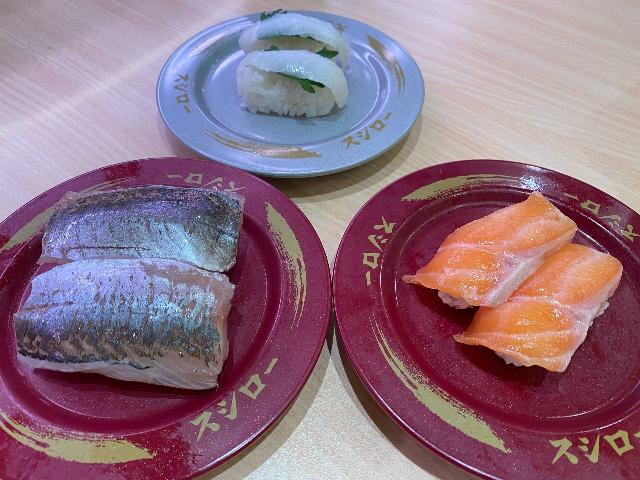janred: (2, 124, 319, 424), (355, 176, 640, 470)
janwhite: (167, 0, 420, 196)
